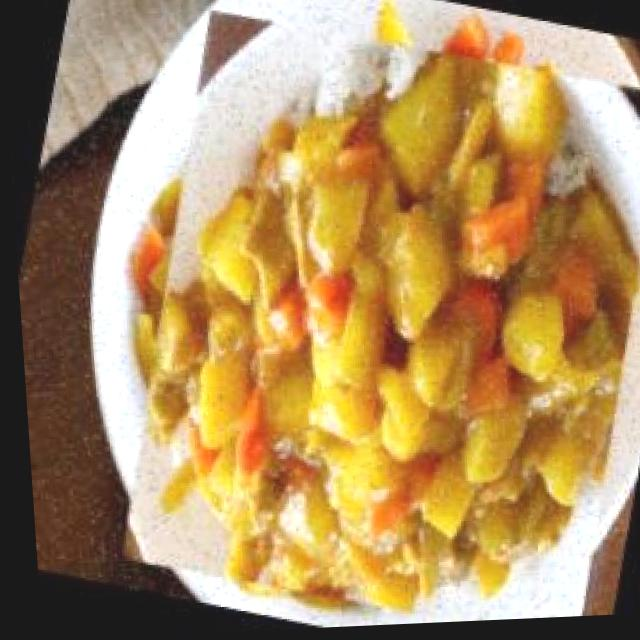curry: (73, 0, 640, 637)
